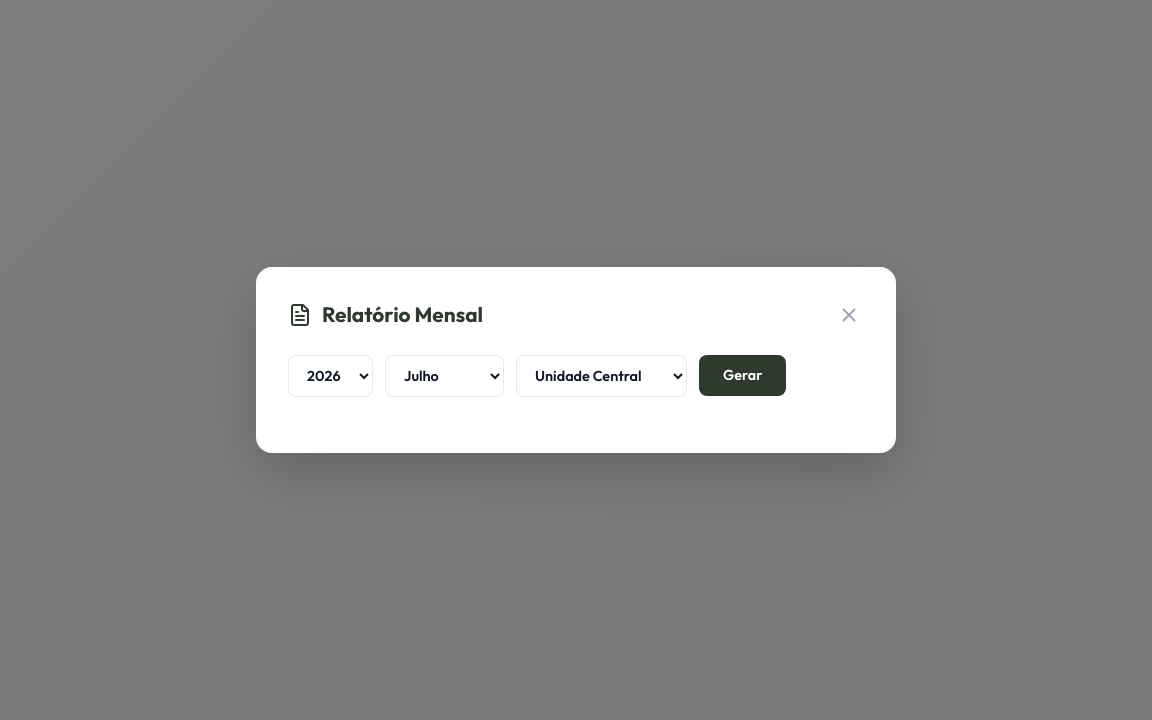
Test: MonthlyReport › should show table after loading data
What coordinates should you click on to do the following:
click the button "Gerar"
I would click on:
 (743, 376)
Its box is [699, 355, 786, 396].
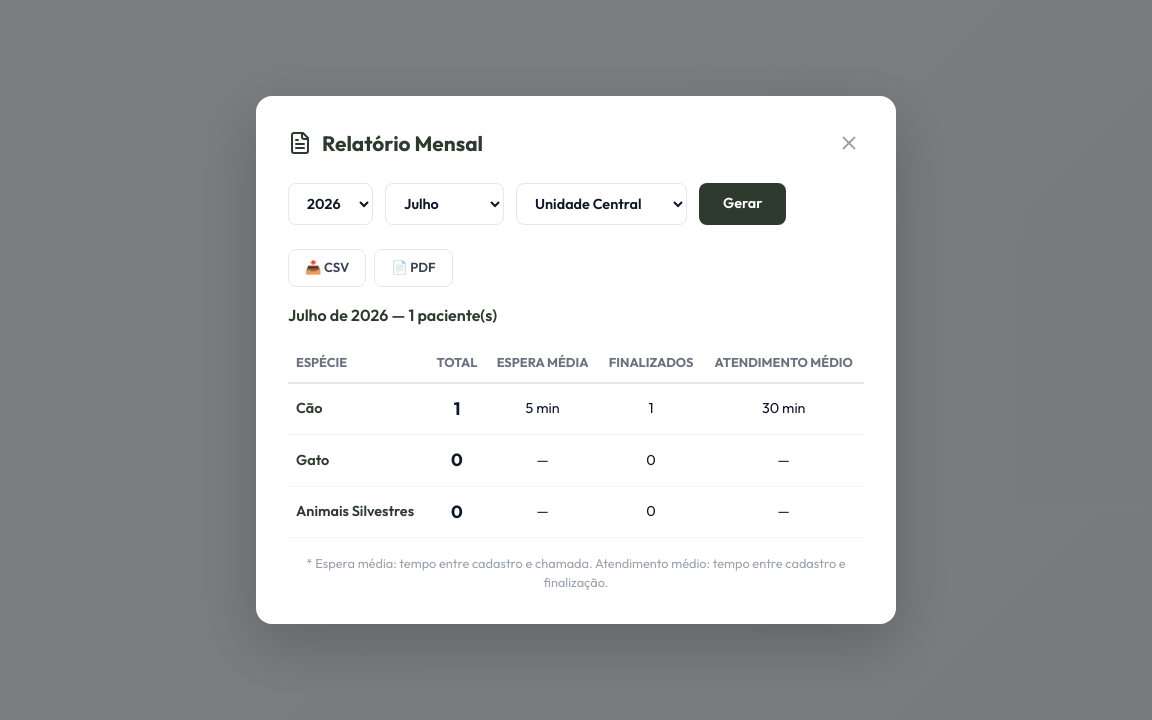
Expected: the text "Cão" is shown, [288, 383, 427, 435]
Expected: the text "5 min" is shown, [487, 383, 599, 435]
